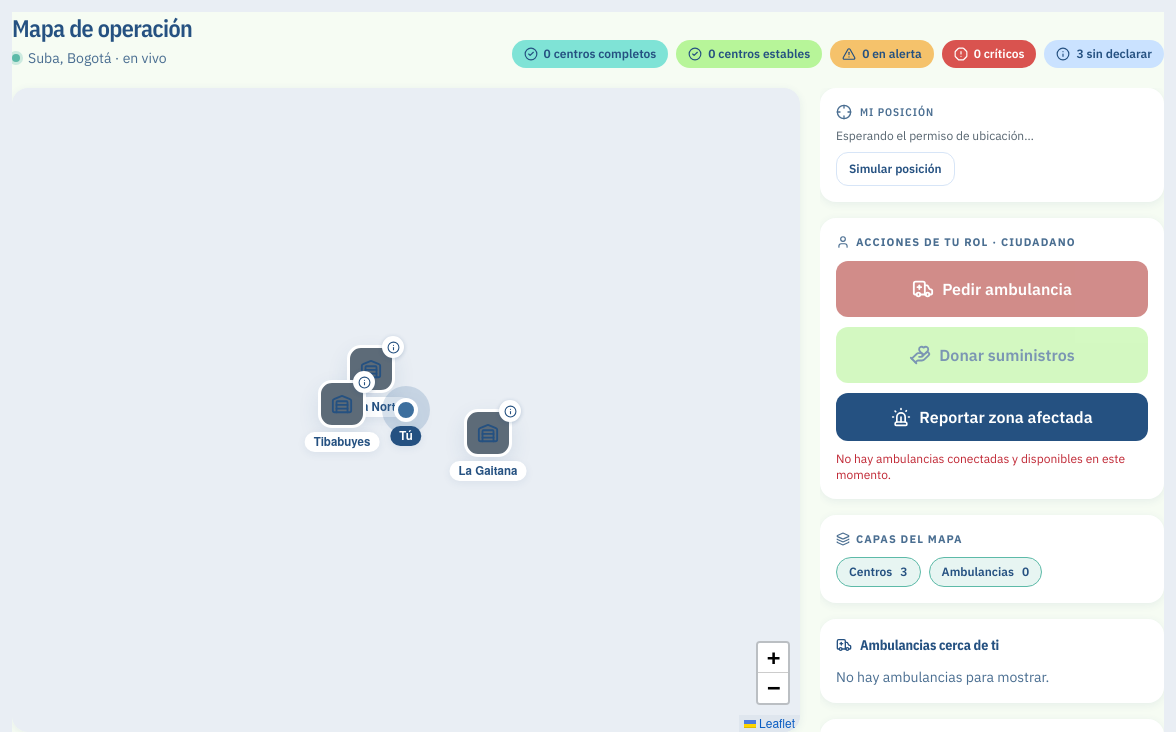
CitizenMapPage against /api/v1/mapa › AC-U1: a background click closes the open center detail
Click the button with class "nv-marker": [371, 369] box [347,345,395,393]
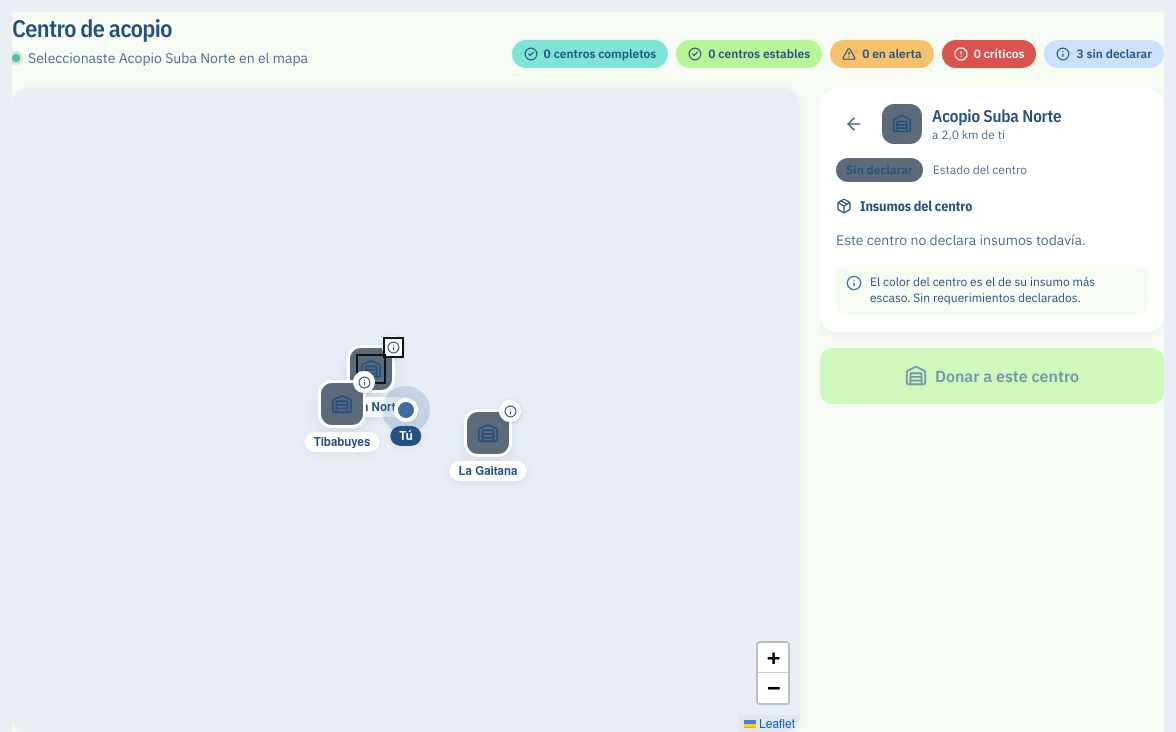
Expected: the heading "Centro de acopio" is shown, [12,12,172,44]
Click the element with class "leaflet-container": [59, 410] box [12,88,800,731]
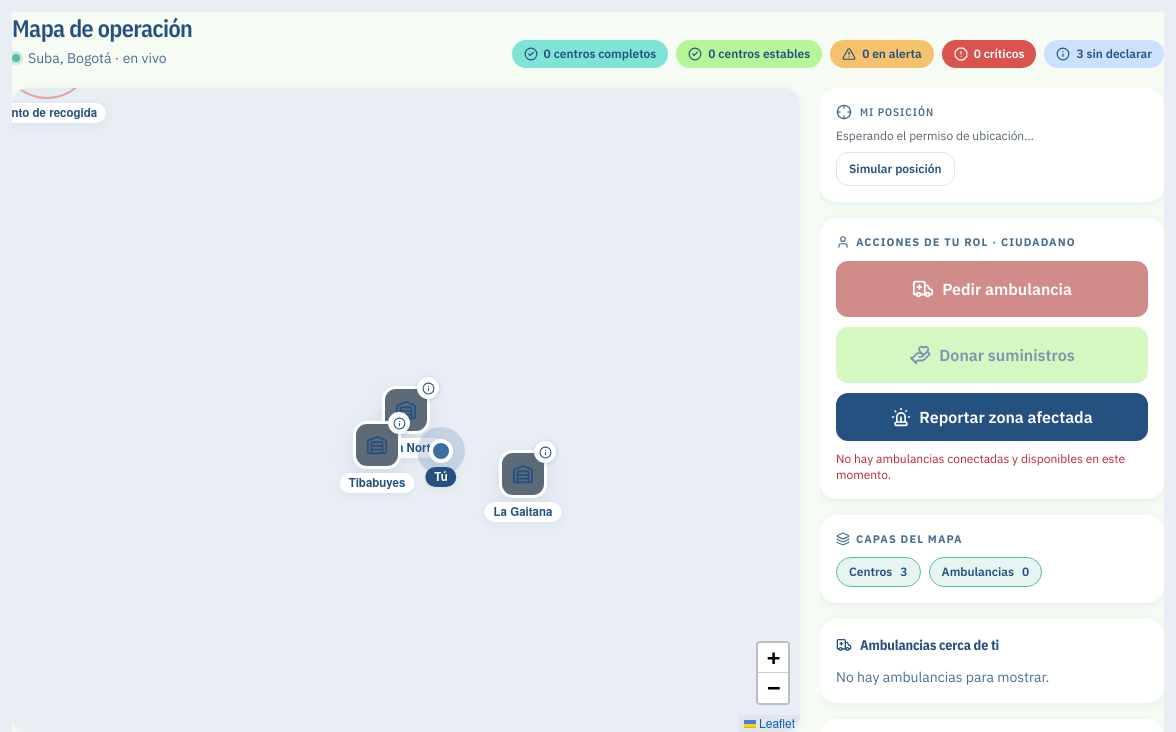
Expected: the heading "Centro de acopio" is gone
Expected: the heading "Mapa de operación" is shown, [12,12,192,44]
